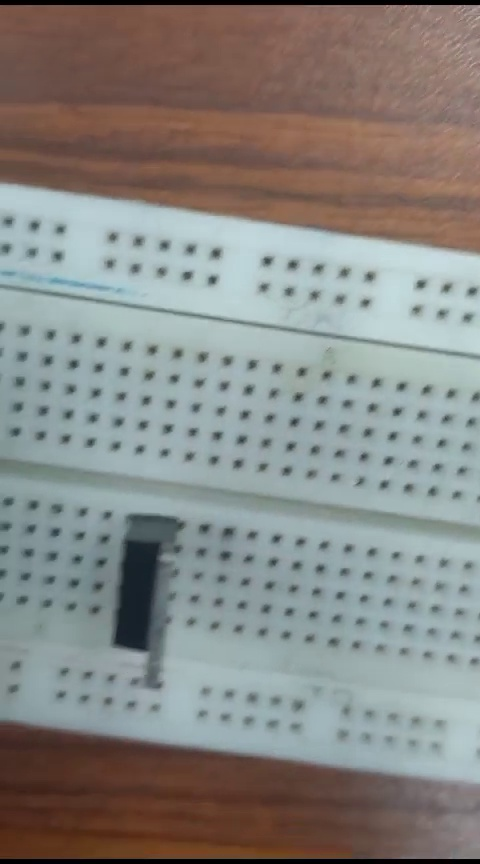voltage regulator: (101, 513, 189, 683)
